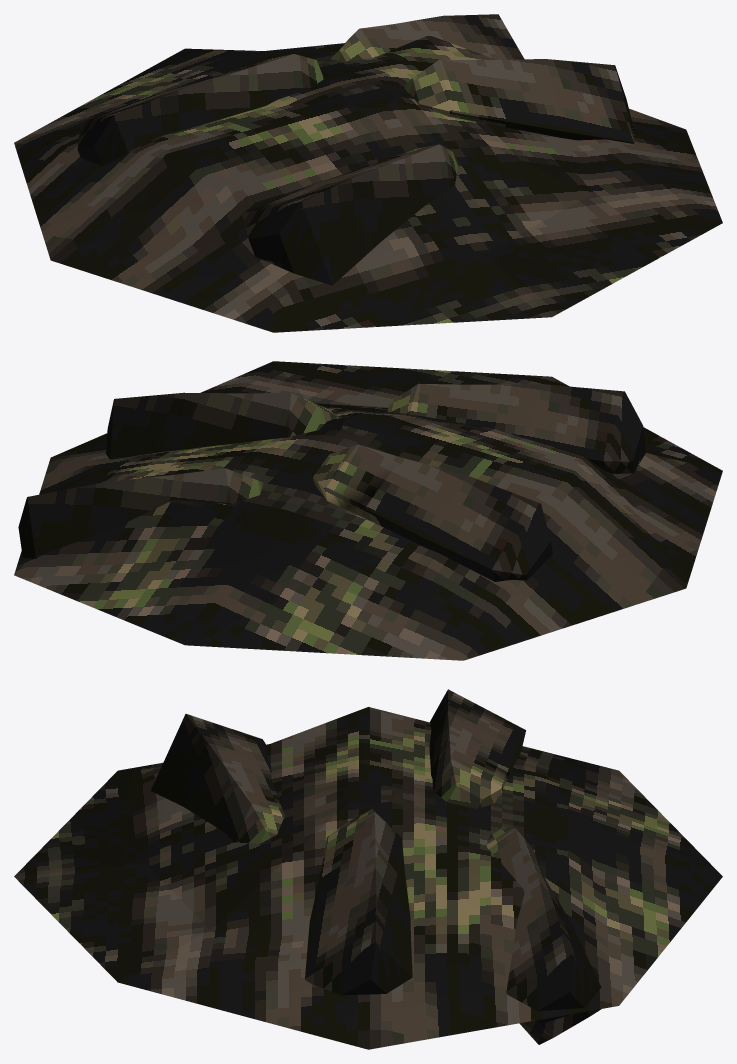
The model's file is barrel_filler_eggplant.glb.
3 views of the same model, one above another, from view 1: azimuth 30°, elevation 25°; view 2: azimuth 150°, elevation 25°; view 3: azimuth 270°, elevation 25° (orthographic). The views are drawn at different scales.
Visible parts, largest first — view 1: barrel_filler_eggplant; view 2: barrel_filler_eggplant; view 3: barrel_filler_eggplant.
Boxes of the visible parts, x1,y1,x2,y2 form: barrel_filler_eggplant: (14, 14, 722, 332); barrel_filler_eggplant: (14, 361, 722, 660); barrel_filler_eggplant: (14, 689, 722, 1049).
Bounding box in the file's own units: 0.9822 × 0.2665 × 0.9822.
1 material, 1 textured.
